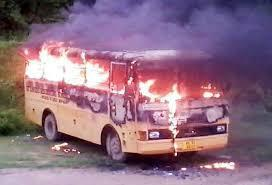fire: (11, 36, 219, 132)
